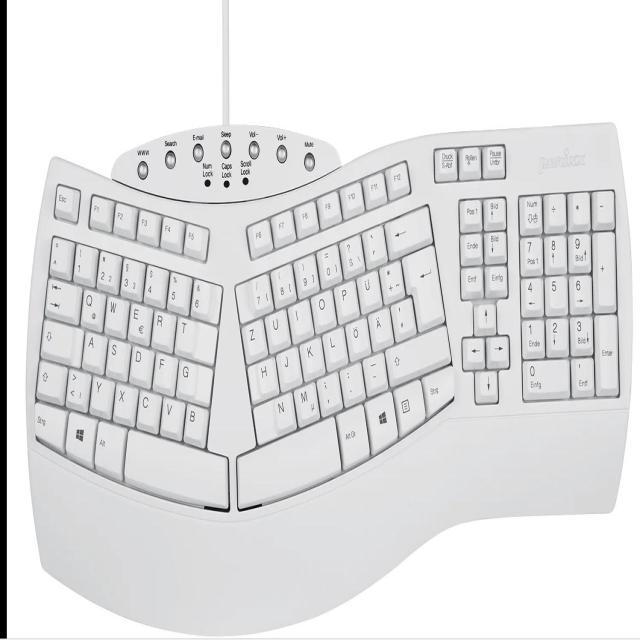0: (315, 241, 341, 283)
1: (72, 240, 97, 283)
2: (95, 248, 121, 290)
3: (119, 255, 144, 297)
4: (143, 262, 168, 304)
5: (168, 271, 190, 310)
6: (189, 277, 211, 317)
7: (252, 270, 273, 309)
8: (270, 261, 295, 304)
9: (293, 251, 319, 294)
a: (81, 329, 106, 370)
accent: (361, 222, 386, 264)
ae: (367, 305, 392, 346)
alt-left: (92, 416, 125, 476)
altgr-right: (335, 401, 369, 465)
b: (183, 401, 208, 444)
c: (135, 388, 161, 429)
caret: (49, 233, 74, 276)
comma: (316, 370, 342, 413)
d: (128, 344, 153, 385)
del: (383, 200, 432, 255)
e: (127, 300, 152, 342)
enter: (402, 244, 444, 327)
f: (152, 350, 177, 392)
g: (176, 357, 198, 397)
h: (247, 355, 279, 400)
hash: (390, 295, 415, 338)
i: (287, 296, 312, 337)
j: (275, 344, 301, 387)
k: (299, 334, 324, 376)
keyboard: (26, 116, 632, 532)
l: (321, 324, 346, 366)
less: (64, 366, 90, 409)
m: (293, 379, 318, 423)
minus: (361, 350, 386, 392)
n: (270, 392, 295, 430)
o: (310, 286, 335, 328)
oe: (345, 314, 370, 356)
p: (333, 278, 358, 319)
plus: (378, 257, 403, 300)
point: (338, 360, 364, 401)
q: (79, 286, 105, 329)
r: (151, 307, 176, 349)
s: (105, 336, 130, 377)
shift-left: (34, 358, 66, 402)
shift-lock: (39, 317, 83, 363)
shift-right: (383, 323, 450, 380)
space: (236, 413, 340, 508), (123, 427, 228, 507)
ss: (339, 231, 364, 274)
strg-left: (32, 398, 65, 447)
strg-right: (421, 363, 454, 412)
t: (174, 315, 196, 355)
tab: (43, 277, 81, 321)
u: (264, 306, 289, 349)
ue: (356, 267, 381, 309)
v: (159, 394, 184, 437)
w: (104, 293, 129, 334)
x: (112, 380, 137, 423)
y: (88, 373, 114, 415)
z: (241, 316, 266, 359)
